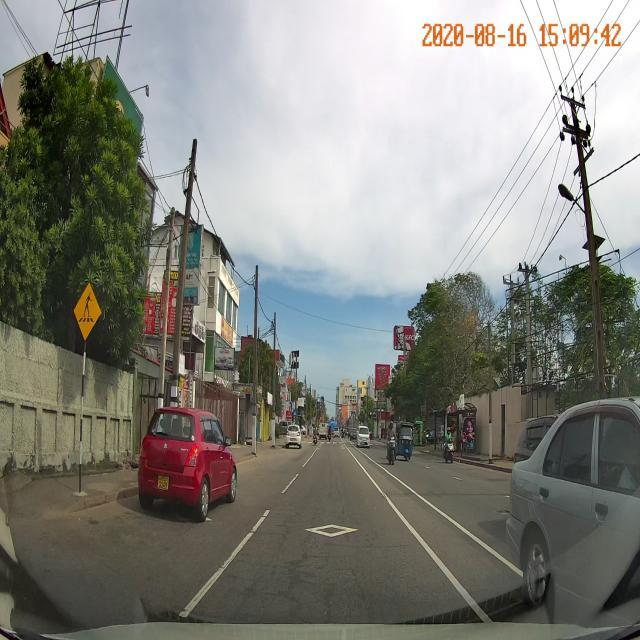diamond: (245, 523, 428, 543)
